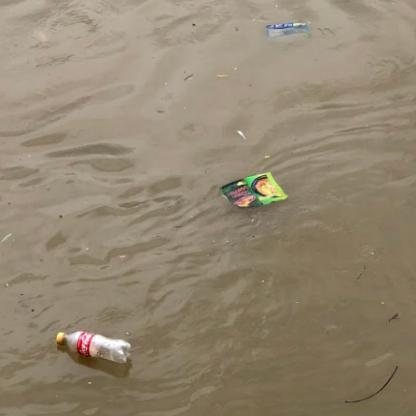plastic bag: (219, 171, 287, 209), (267, 21, 311, 39)
plastic bottle: (56, 331, 131, 365)
